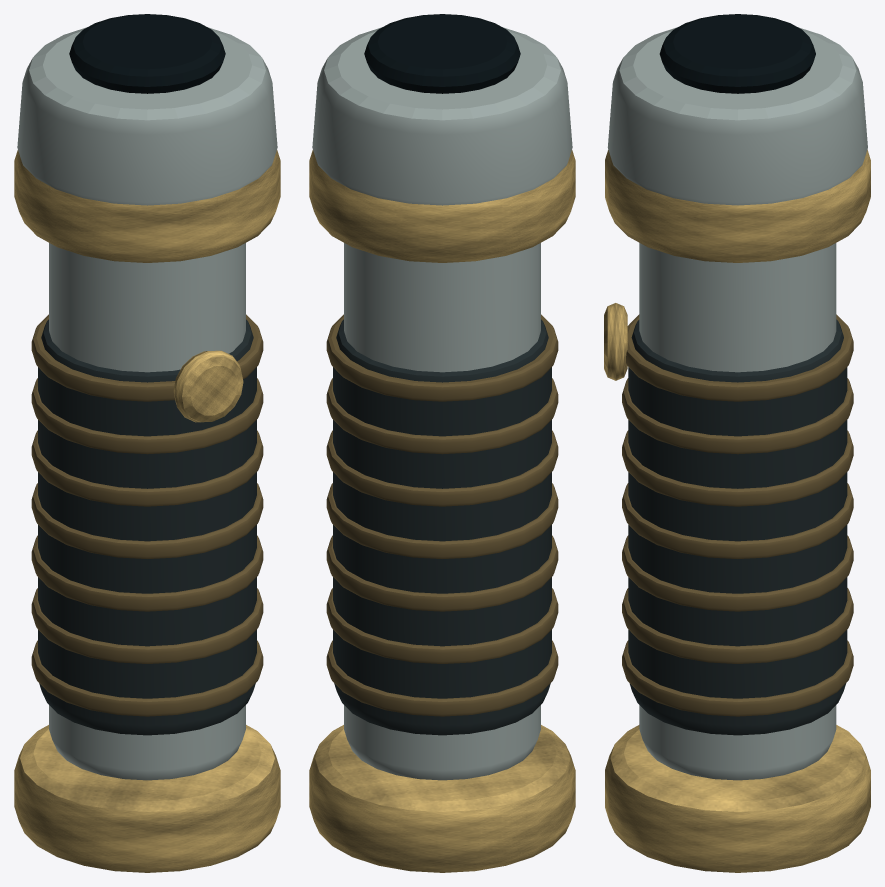
The model's file is saber-hilt.glb.
The picture shows the model from 3 angles, left to right: view 1: azimuth 30°, elevation 25°; view 2: azimuth 150°, elevation 25°; view 3: azimuth 270°, elevation 25°; orthographic projection.
Visible parts, largest first — view 1: Grip_core, Emitter_shroud, Silver_body, End_collar, End_collar.001, Emitter_inset, Grip_ring.004, Grip_ring.002, Grip_ring, Grip_ring.001, Grip_ring.005, Grip_ring.003 (+2 smaller); view 2: Grip_core, Emitter_shroud, Silver_body, End_collar, End_collar.001, Emitter_inset, Grip_ring.006, Grip_ring.004, Grip_ring.002, Grip_ring, Grip_ring.001, Grip_ring.005 (+1 smaller); view 3: Grip_core, Emitter_shroud, Silver_body, End_collar, End_collar.001, Emitter_inset, Grip_ring.006, Grip_ring.001, Grip_ring.005, Grip_ring.003, Grip_ring.002, Grip_ring (+2 smaller).
Boxes of the visible parts, x1,y1,x2,y2 form: Grip_core: (38, 319, 256, 735); Emitter_shroud: (17, 27, 277, 205); Silver_body: (49, 243, 245, 780); End_collar: (14, 725, 280, 872); End_collar.001: (14, 150, 280, 262); Emitter_inset: (69, 14, 225, 93); Grip_ring.004: (31, 430, 263, 506); Grip_ring.002: (31, 535, 263, 611); Grip_ring: (31, 640, 263, 716); Grip_ring.001: (31, 588, 263, 663); Grip_ring.005: (31, 378, 263, 454); Grip_ring.003: (31, 483, 263, 558); Grip_core: (333, 319, 551, 735); Emitter_shroud: (312, 27, 572, 205); Silver_body: (344, 243, 540, 780); End_collar: (309, 725, 575, 872); End_collar.001: (309, 150, 575, 262); Emitter_inset: (364, 14, 520, 93); Grip_ring.006: (326, 314, 558, 401); Grip_ring.004: (326, 430, 558, 506); Grip_ring.002: (326, 535, 558, 611); Grip_ring: (326, 640, 558, 716); Grip_ring.001: (326, 588, 558, 663); Grip_ring.005: (326, 378, 558, 454); Grip_core: (628, 319, 847, 735); Emitter_shroud: (607, 27, 867, 205); Silver_body: (639, 243, 836, 780); End_collar: (605, 725, 870, 872); End_collar.001: (605, 149, 870, 262); Emitter_inset: (659, 14, 815, 93); Grip_ring.006: (626, 314, 853, 401); Grip_ring.001: (622, 588, 853, 663); Grip_ring.005: (622, 378, 853, 454); Grip_ring.003: (622, 483, 853, 558); Grip_ring.002: (622, 535, 853, 611); Grip_ring: (622, 640, 853, 716).
Size of the model in its own units: 0.17 by 0.5515 by 0.1705.
Materials: 5 (1 with a texture image).
